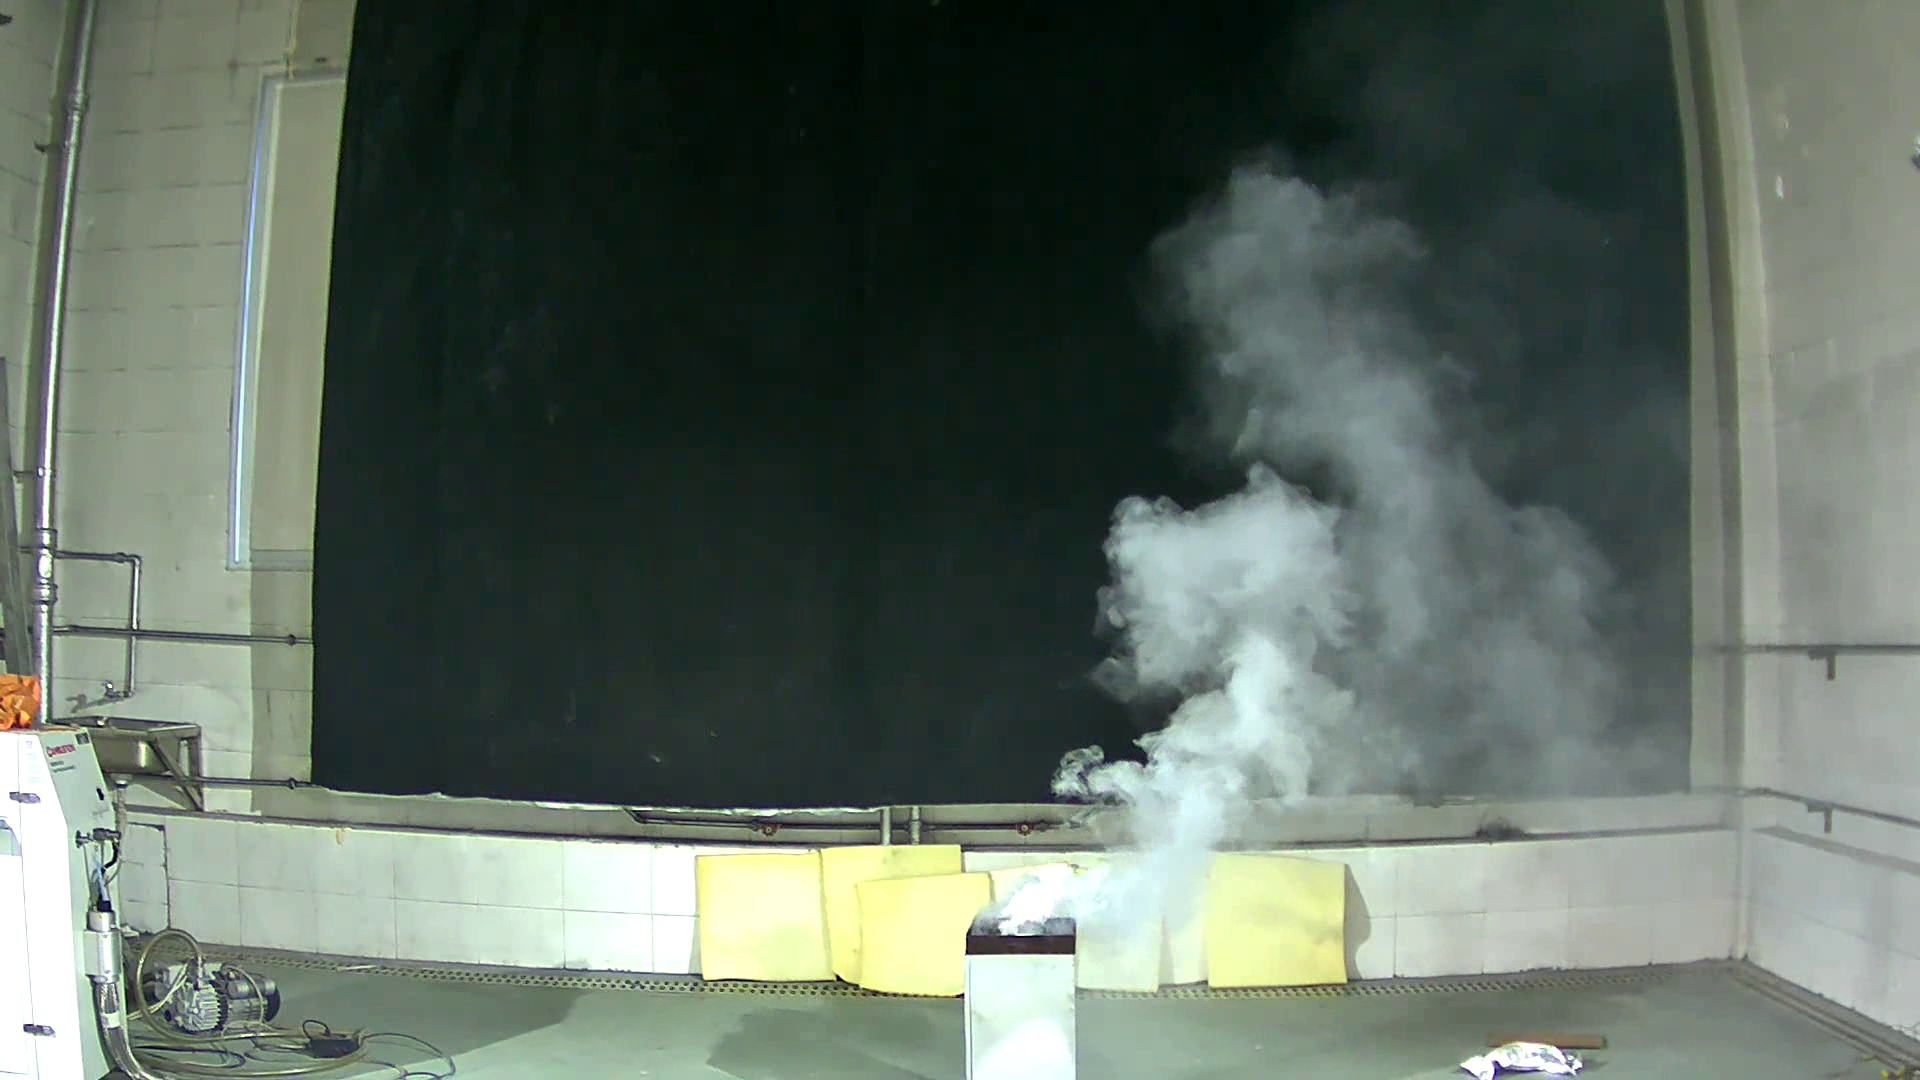smoke: (1062, 146, 1662, 928)
